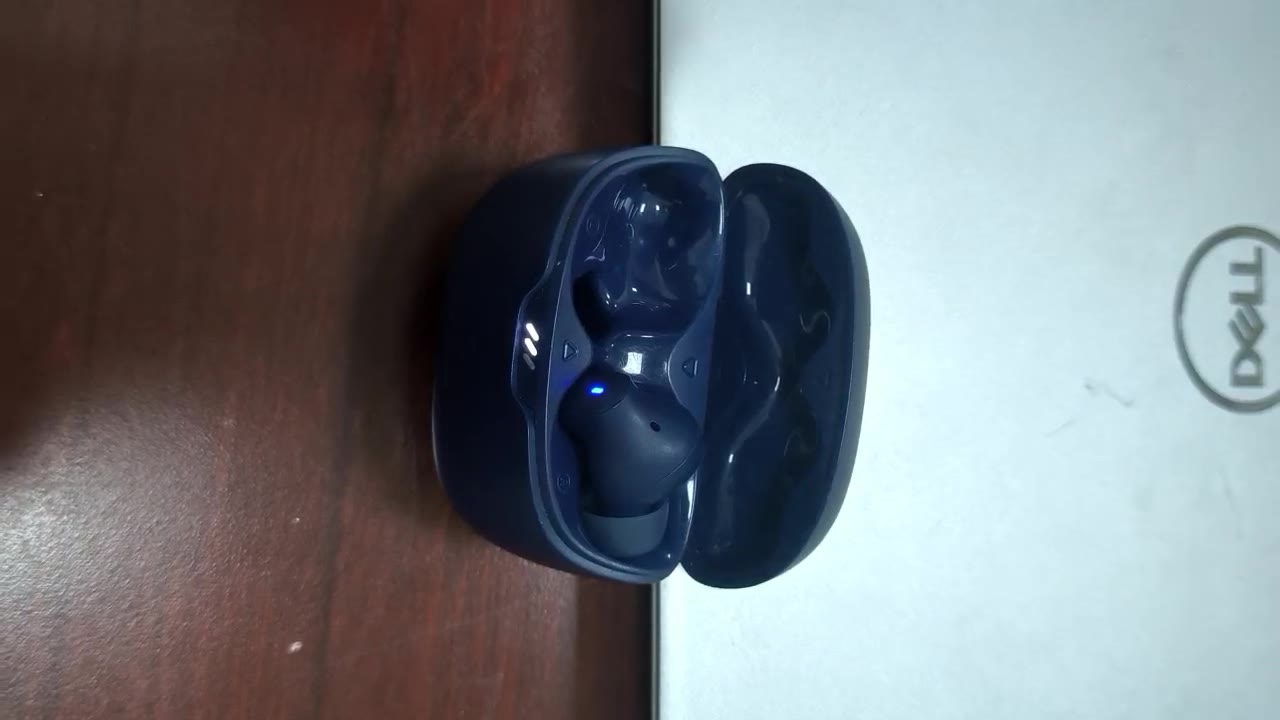Case: (421, 143, 885, 584)
Earbud: (559, 367, 700, 555)
Empty_Slot: (567, 149, 723, 352)
